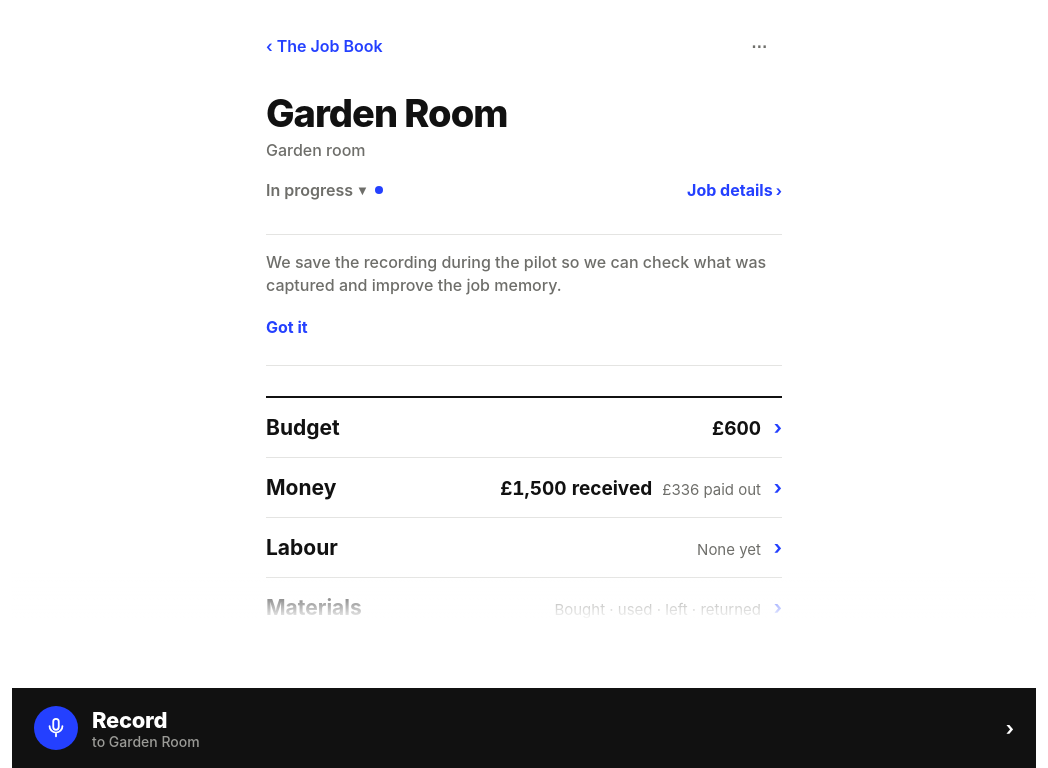
Test: Money — section › opens with the Money title, in/out totals and All/Money in/Money out filters
Step 1. Click the button with aria-label "Open Money" → (524, 488), box x1=266 y1=458 x2=782 y2=518
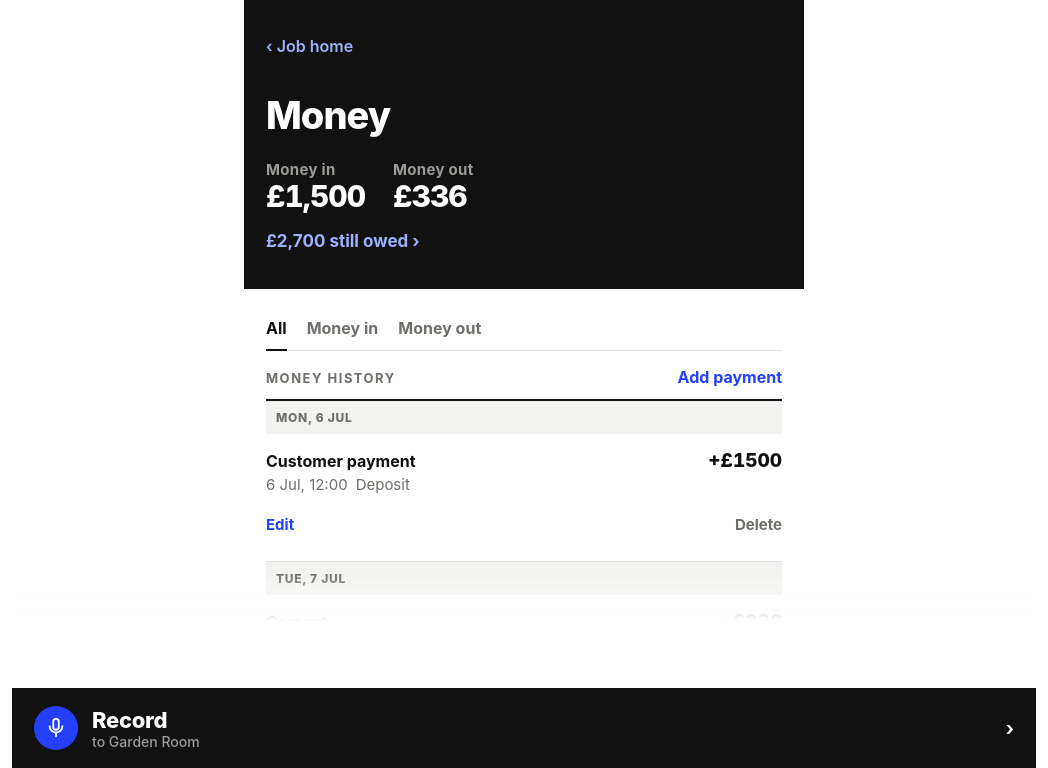
Result: the panel "Money" is shown at x1=266 y1=134 x2=782 y2=723
Result: the heading "Money" is shown at x1=266 y1=92 x2=390 y2=138
Result: the text "Money in" is shown at x1=266 y1=160 x2=336 y2=179
